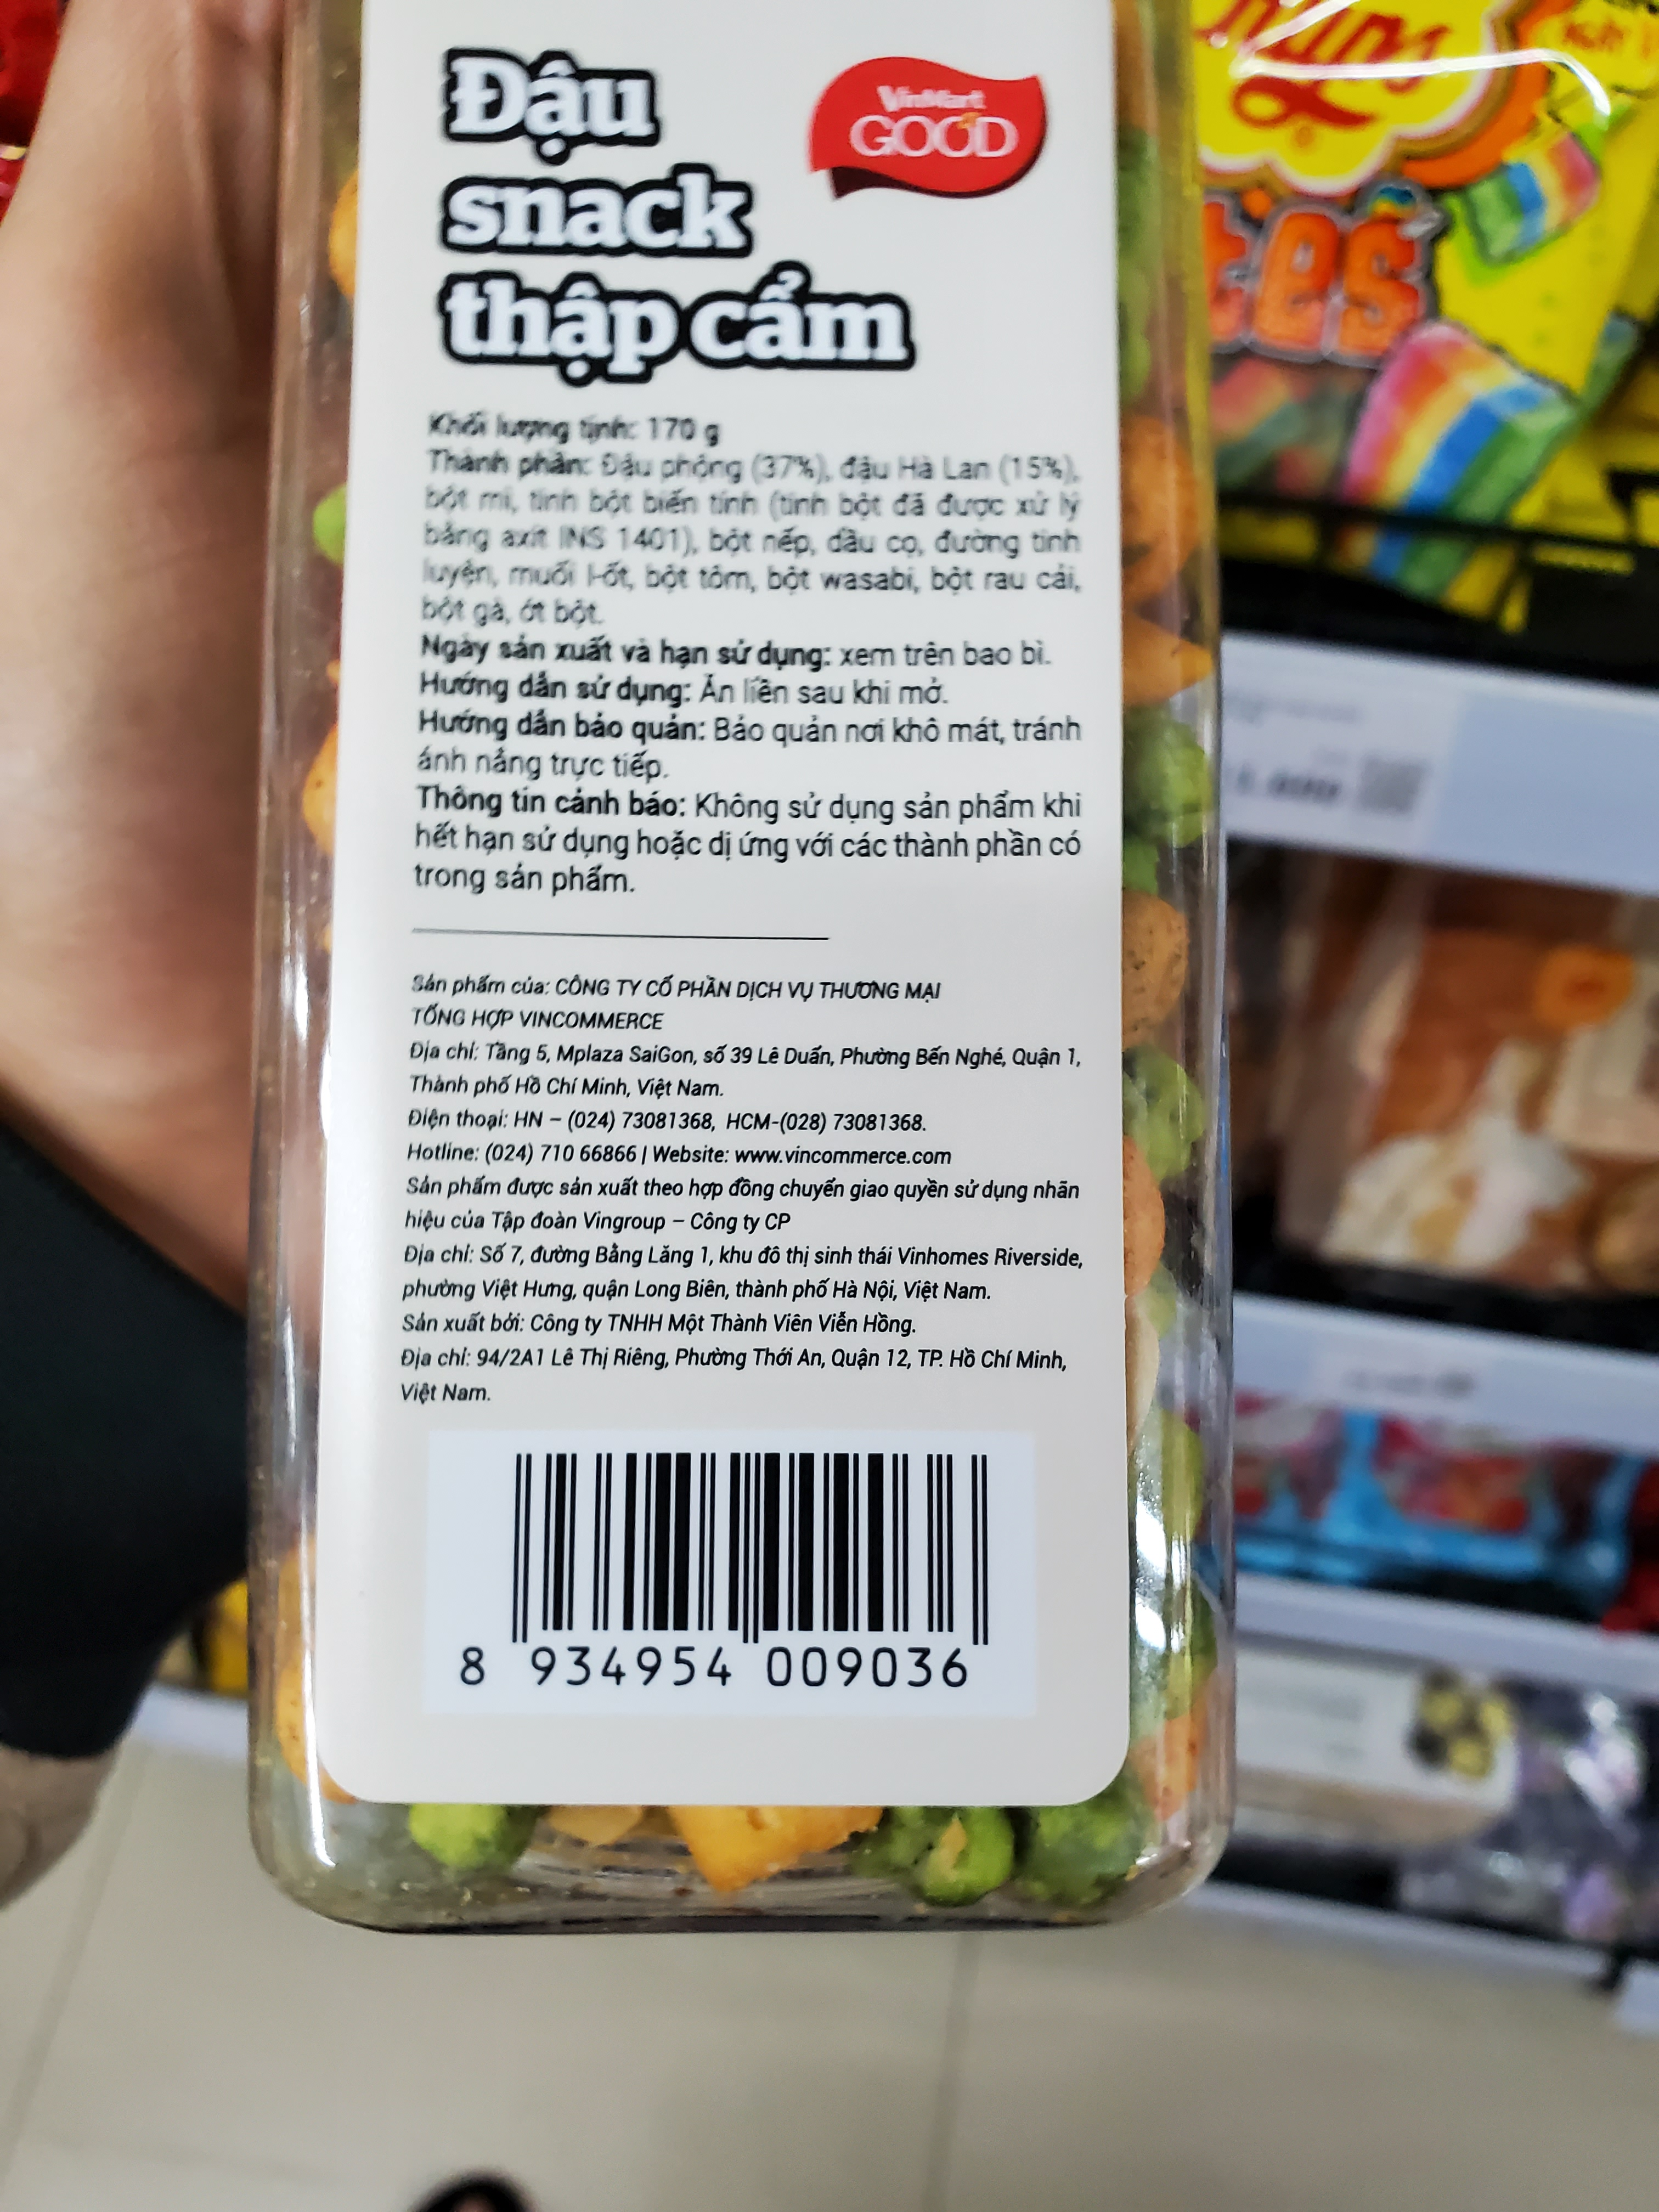barcode: (401, 1428, 1018, 1705)
